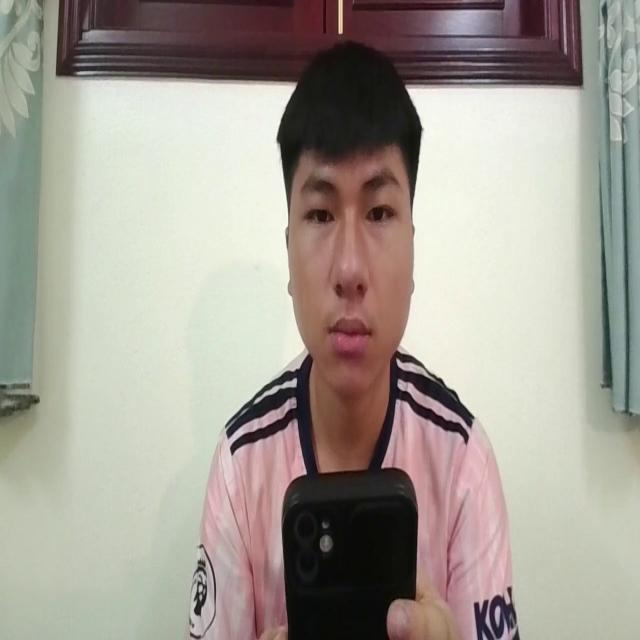phone: (278, 464, 420, 640)
student: (188, 40, 515, 640)
